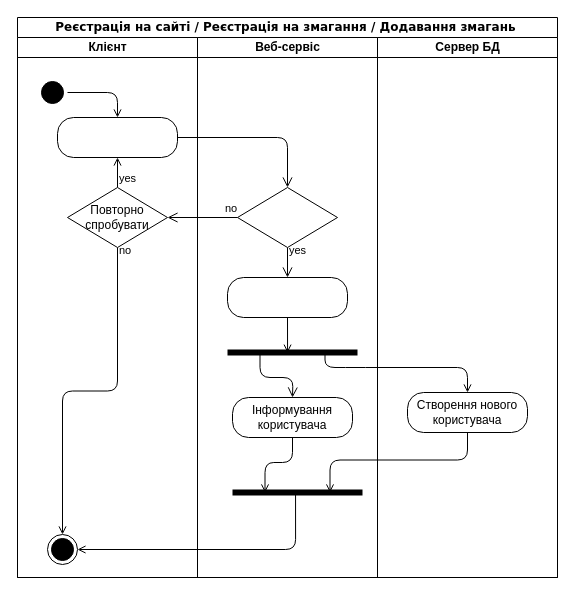
This 575x595 diagram has some shape labels left out. Here are the shapes that lost their labels. From the top down, the centre of each, then its label:
the point at 117,137: Введення даних
the point at 287,217: Коректні дані
the point at 287,297: Запит до БД
